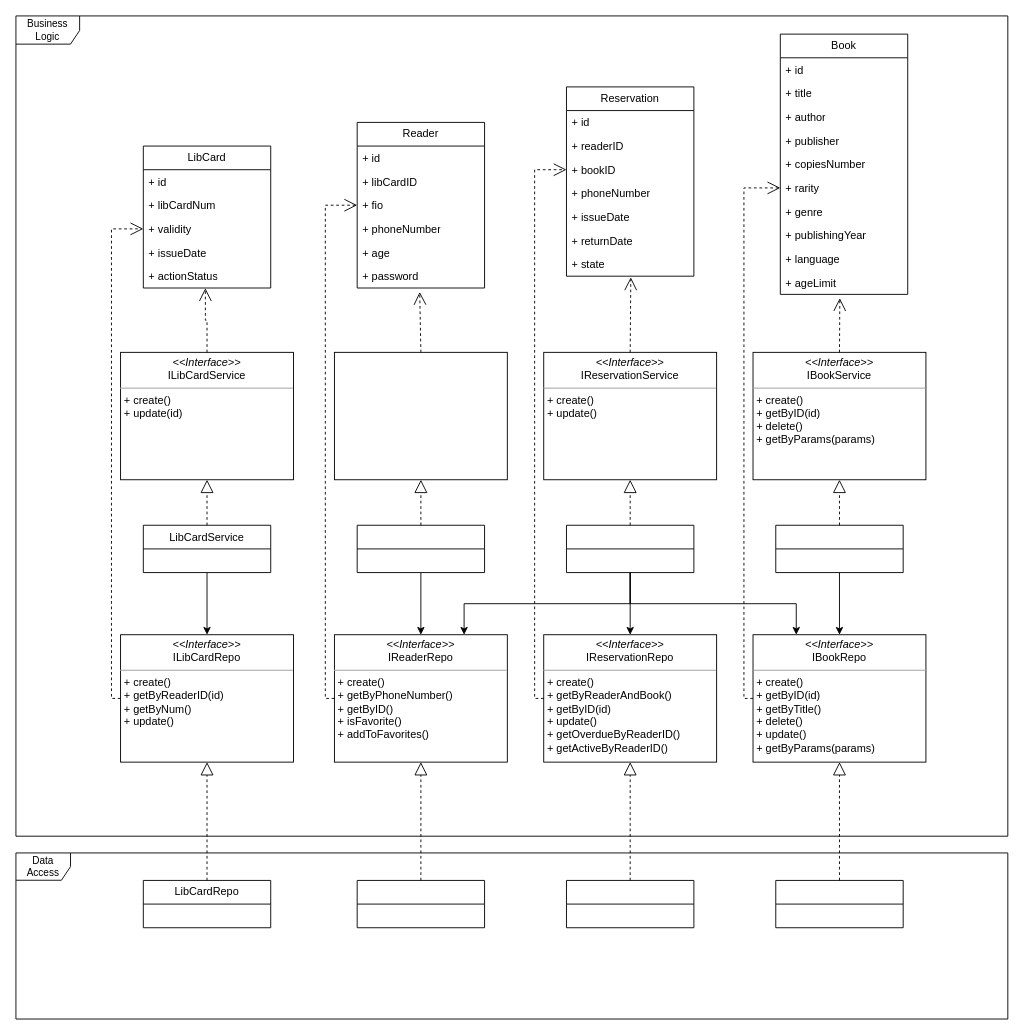
The diagram is 1024 pixels wide and 1036 high, and some of its shapes have lost their labels. Each missing label, with the centre of its shape:
<<Interface>> IReaderService + signUp() + signIn() + addToFavorites(): [420,415]
BookRepo: [839,904]
BookService: [839,548]
ReaderRepo: [420,904]
ReaderService: [420,548]
ReservationRepo: [630,904]
ReservationService: [630,548]
